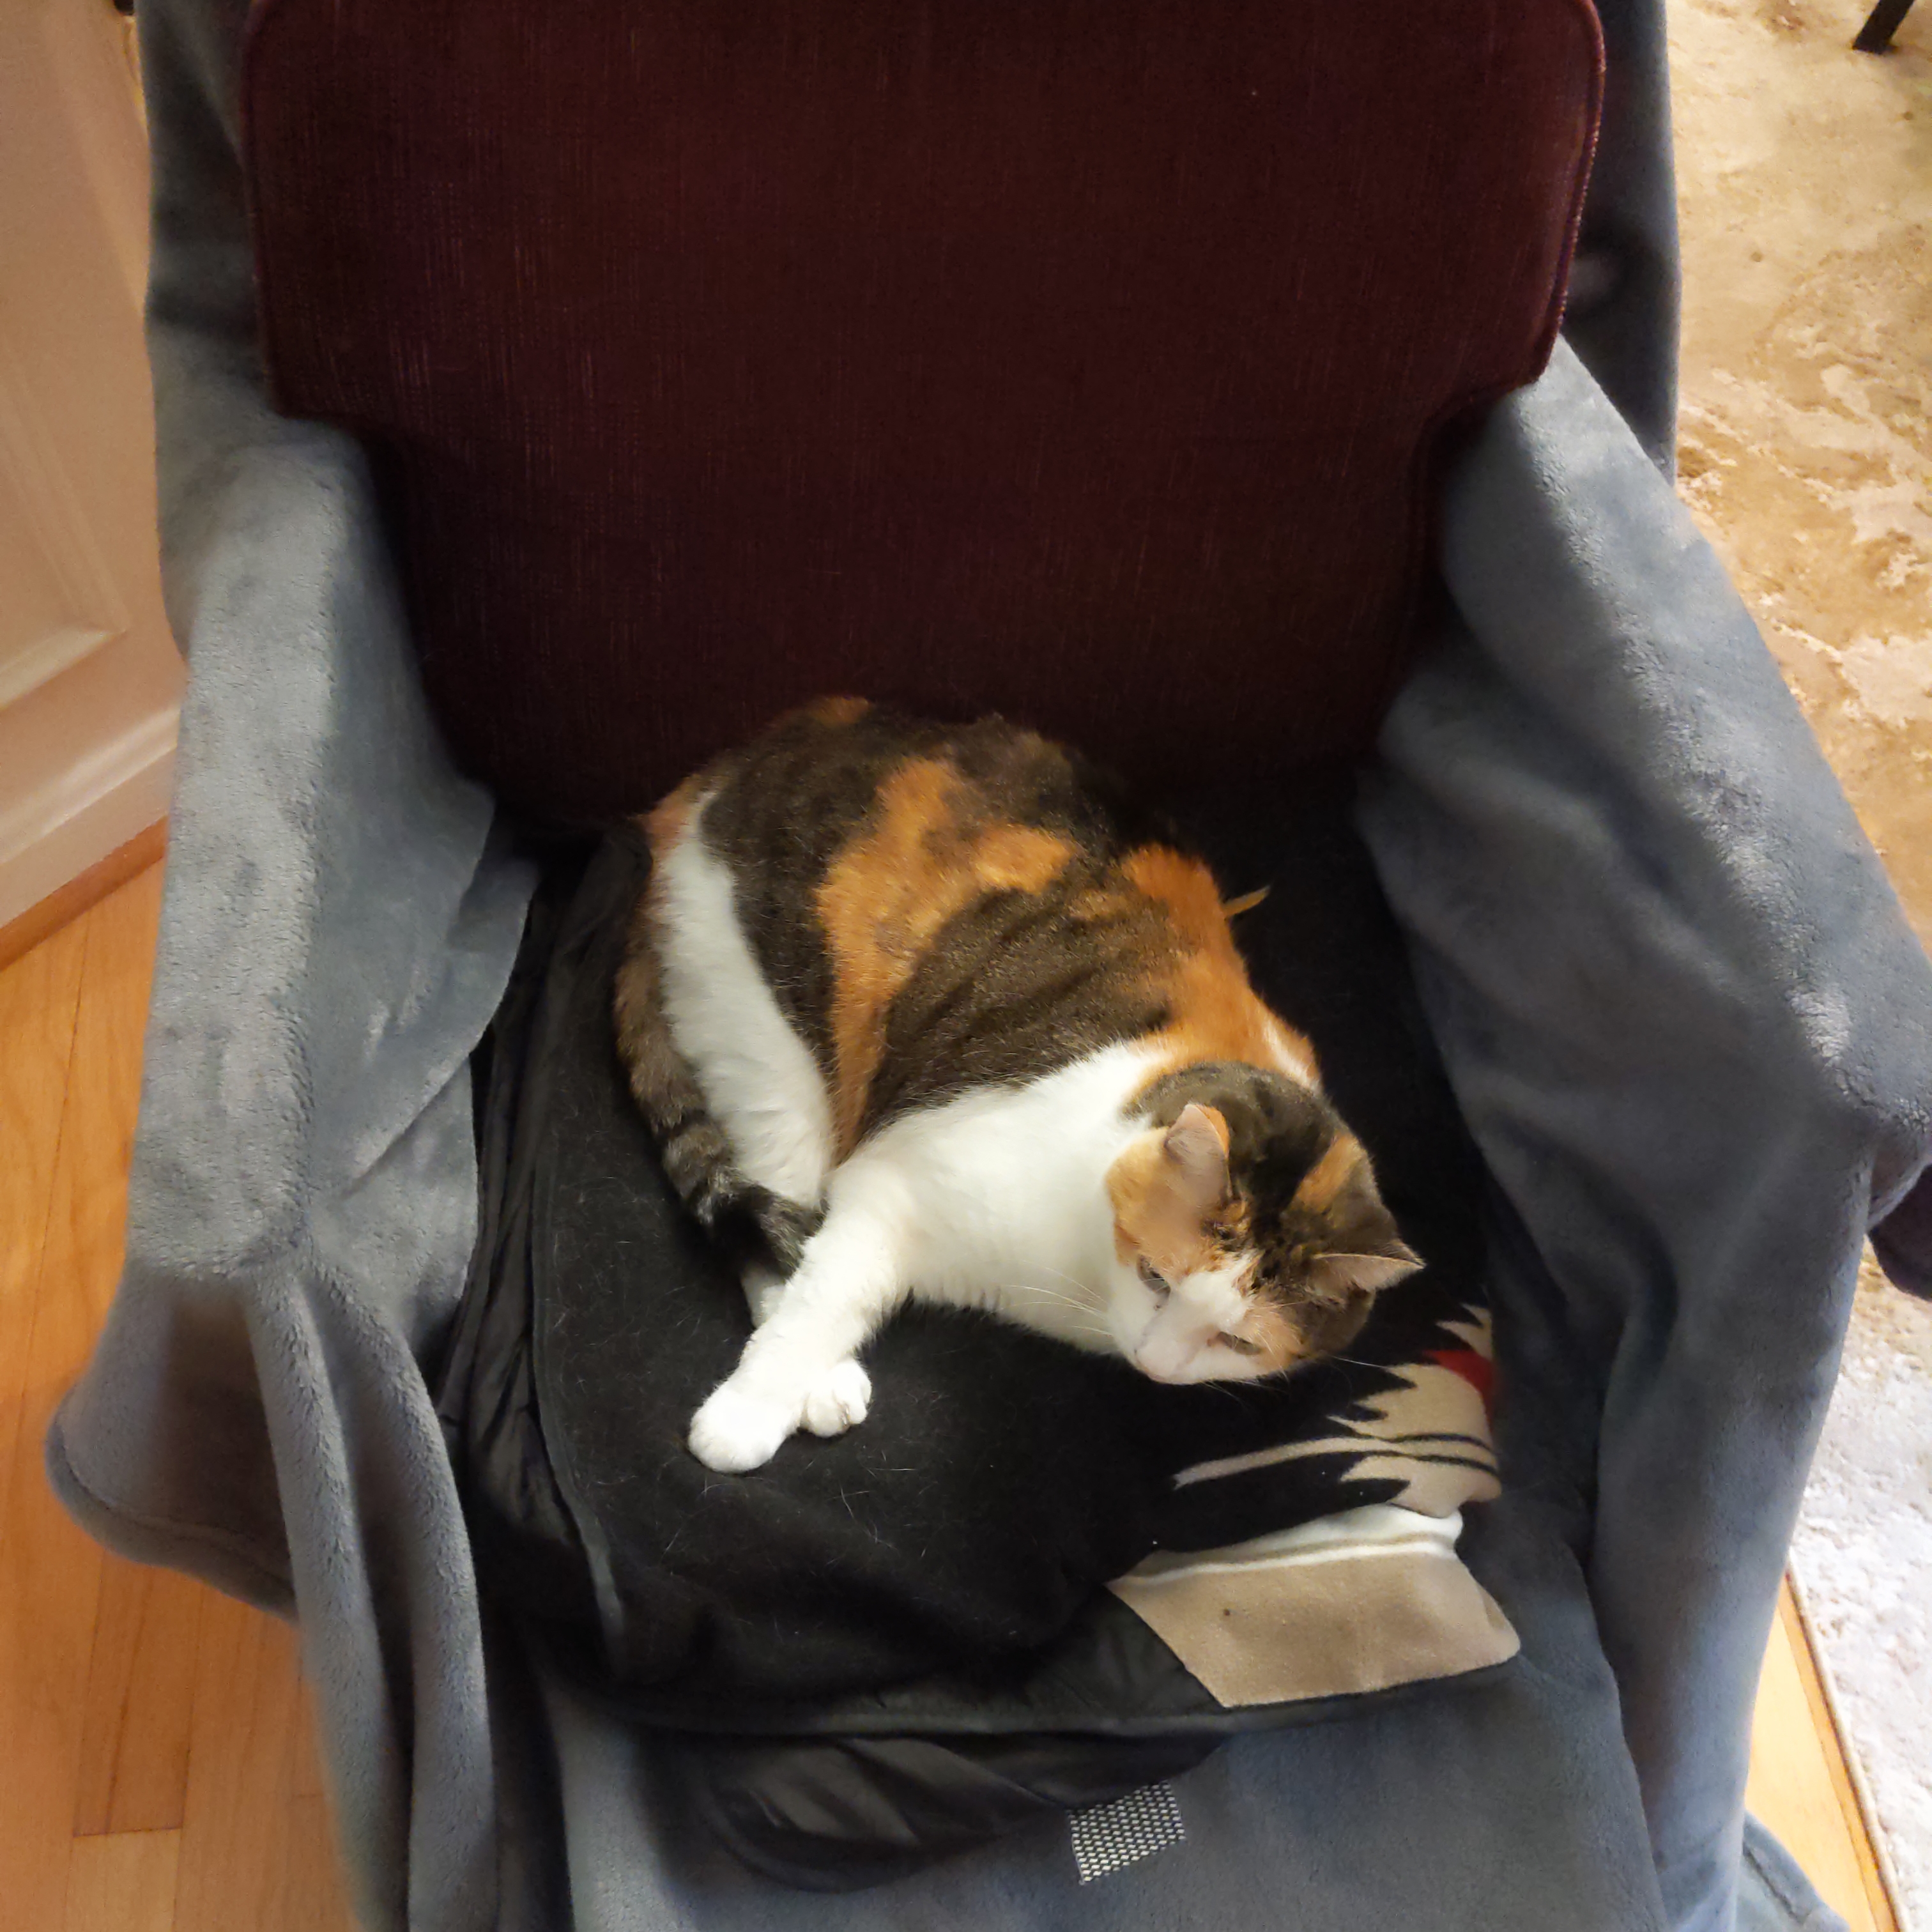Calico: (609, 694, 1428, 1474)
